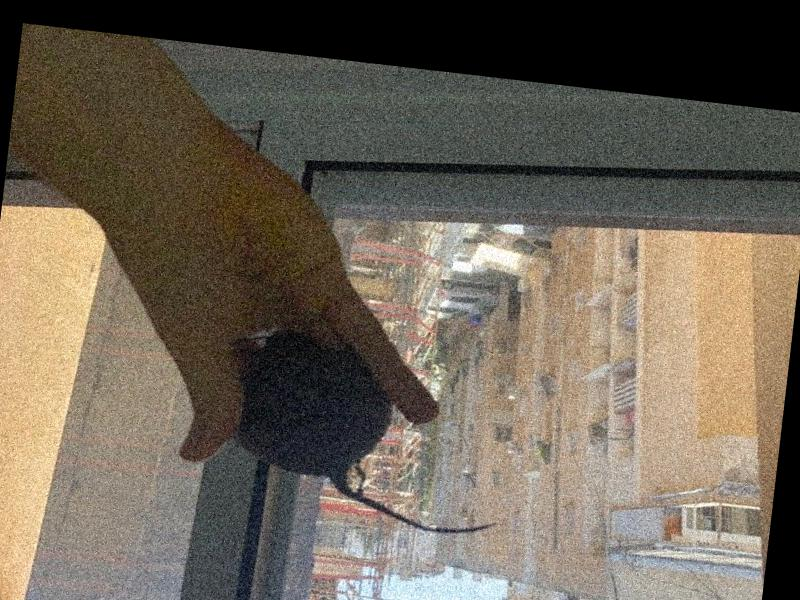Beet: (227, 328, 517, 541)
